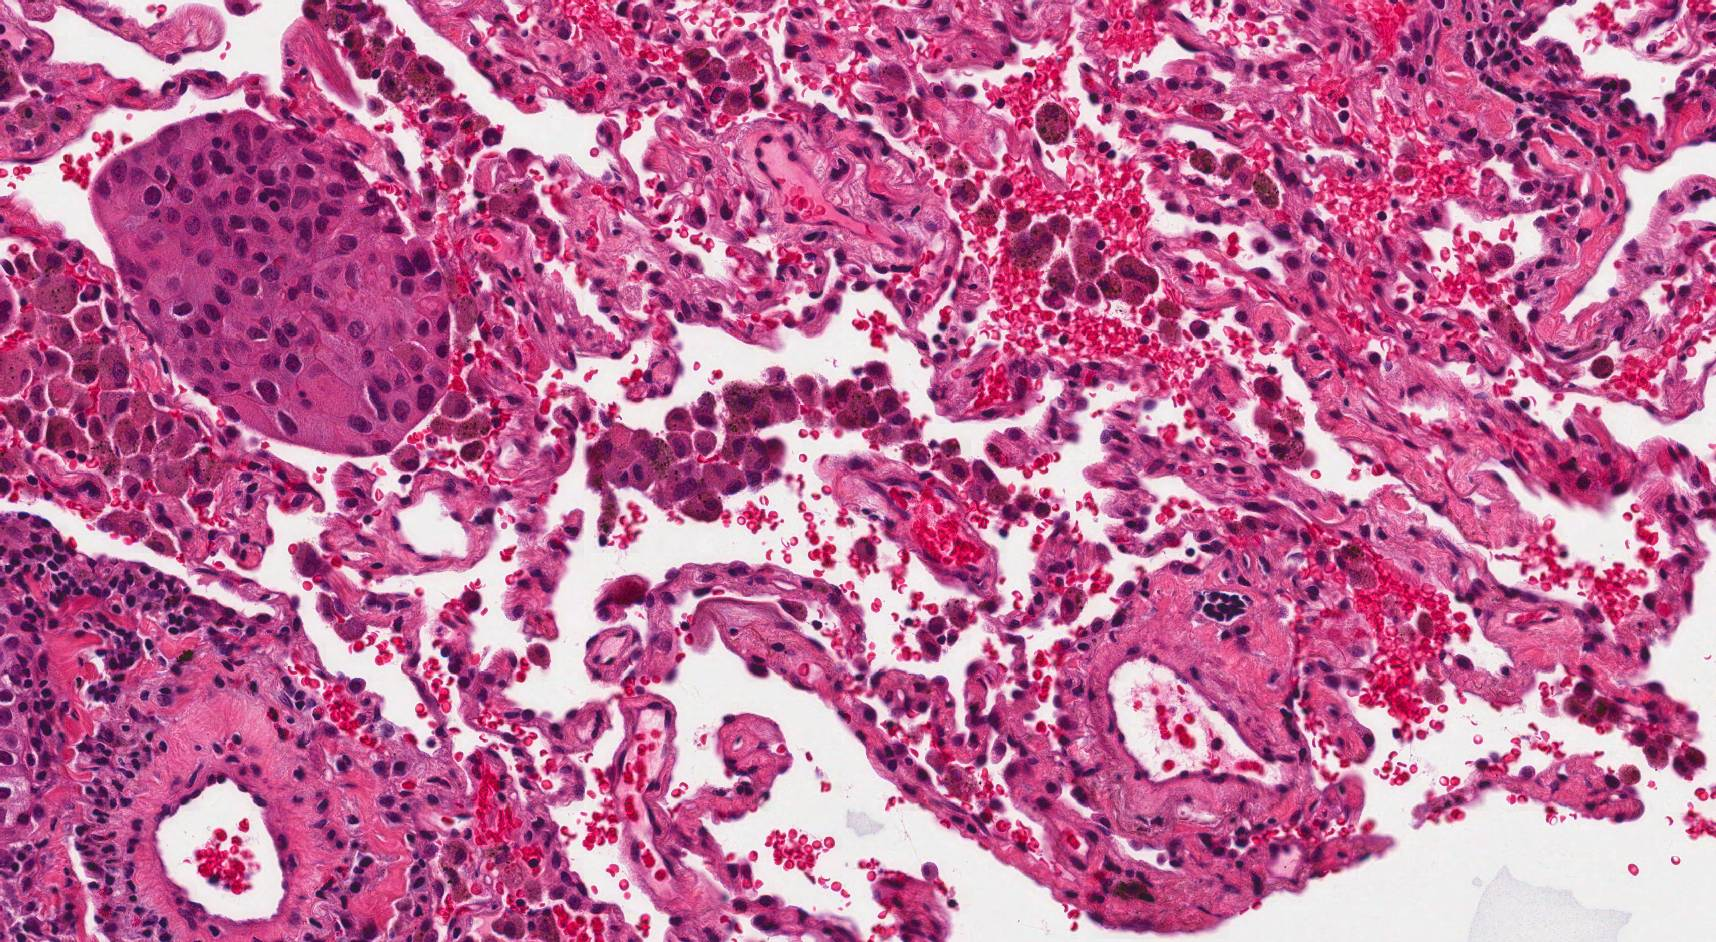stas: (85, 113, 452, 458)
